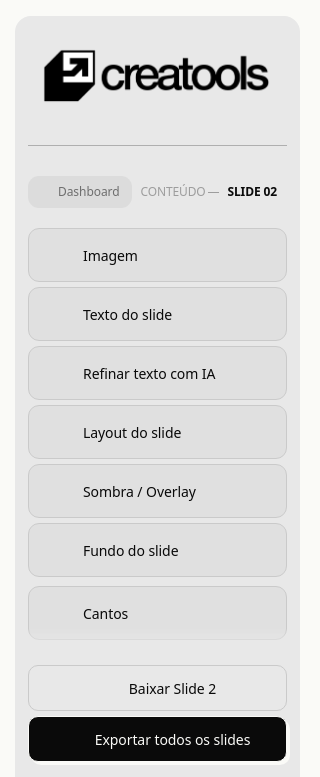
Scenario: 1 — o upload órfão sai da aba "Fundo do Slide" do Editorial › slide interno: nada de arrastar imagem, só a cor
Click the button "Fundo do slide".
click(158, 550)  # box [29,524,286,576]
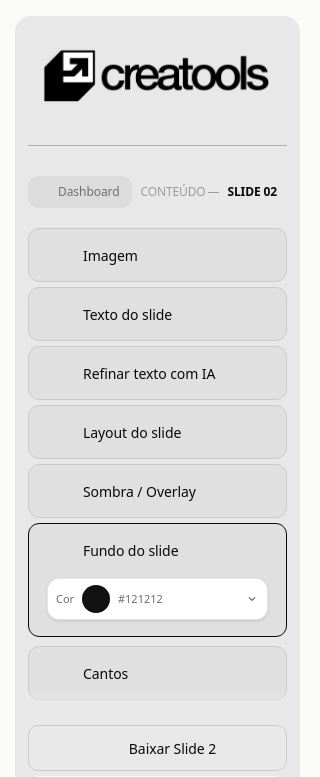
Expected: the text "Cor" is shown, [56,591,74,607]
